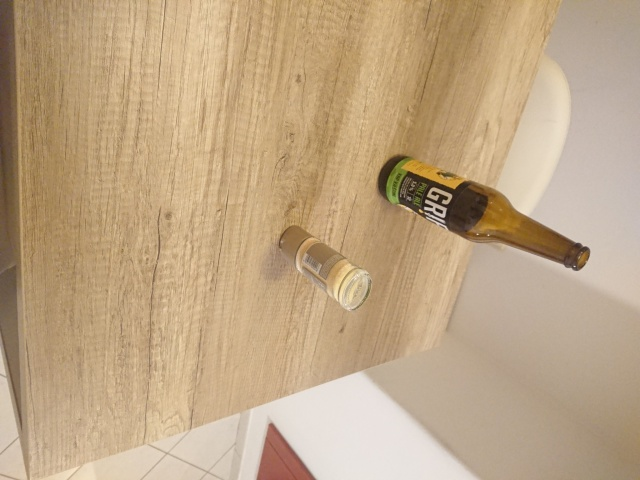Kotanyi Garlic Granules 70g: (276, 222, 374, 314)
